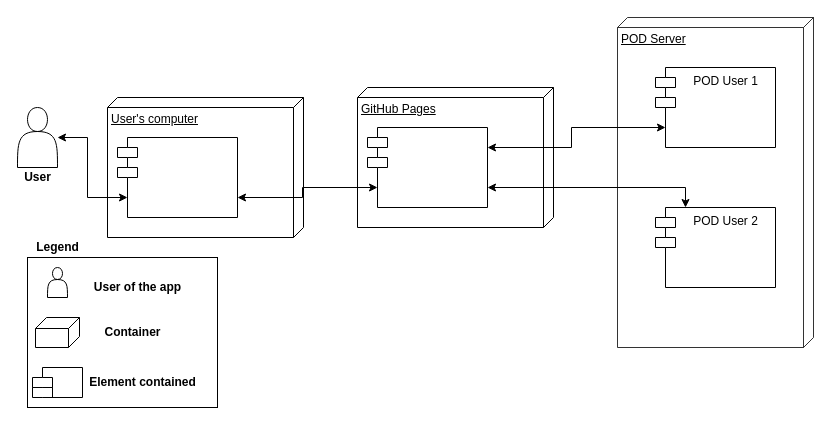
The diagram is 831 pixels wide and 425 high, and some of its shapes have lost their labels. Each missing label, with the centre of its shape:
Browser: point 177,177
Viade App: point 427,167
